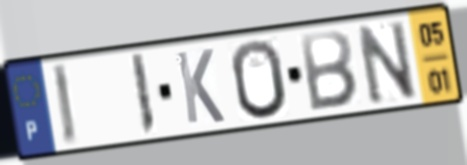B: (298, 27, 360, 114)
I: (48, 60, 80, 149), (128, 50, 159, 139)
K: (173, 46, 228, 127)
N: (352, 17, 420, 109)
O: (228, 37, 290, 123)
